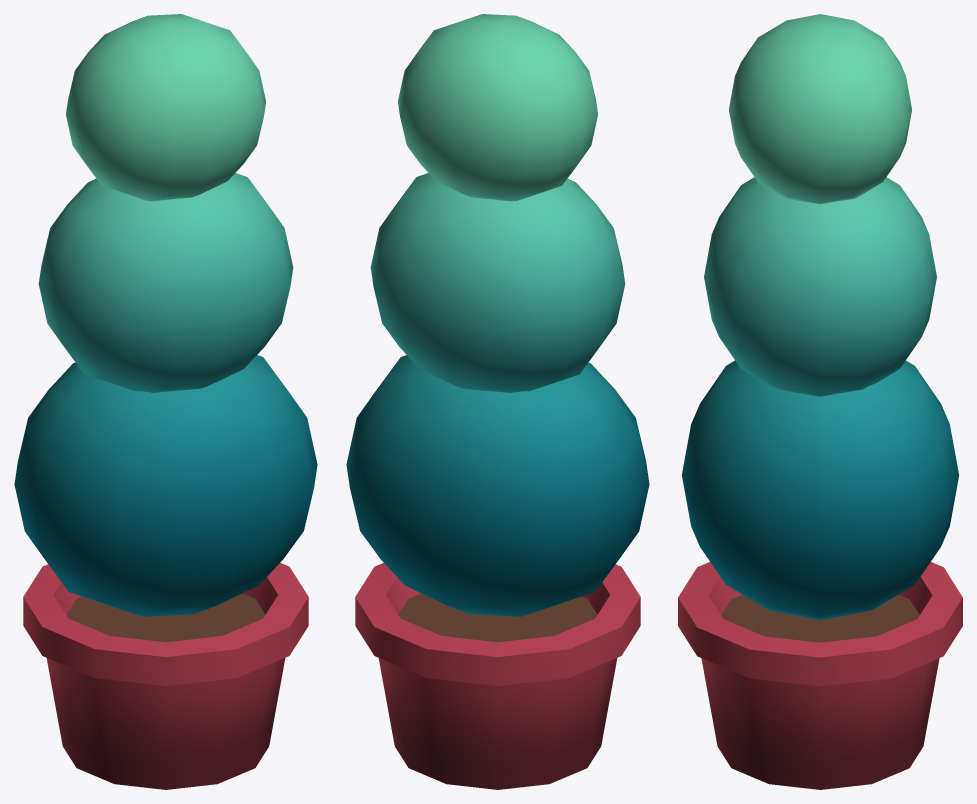
File: Plant_01.fbx
3 renders of one model, left to right at view 1: azimuth 30°, elevation 25°; view 2: azimuth 150°, elevation 25°; view 3: azimuth 270°, elevation 25°, orthographic.
Visible parts, largest first — view 1: Cylinder002; view 2: Cylinder002; view 3: Cylinder002.
Boxes of the visible parts, left/top/right/bottom form: Cylinder002: left=14, top=14, right=317, bottom=789; Cylinder002: left=346, top=14, right=649, bottom=789; Cylinder002: left=678, top=14, right=962, bottom=789.
Size of the model in its own units: 88.52 by 230 by 82.46.
